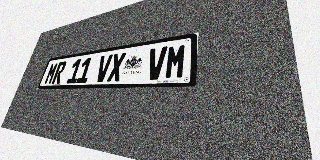1: (76, 57, 93, 83), (66, 59, 83, 83)
M: (164, 43, 187, 79), (44, 62, 59, 84)
R: (51, 61, 67, 84)
V: (145, 46, 167, 80), (94, 54, 113, 82)
X: (107, 52, 126, 82)
